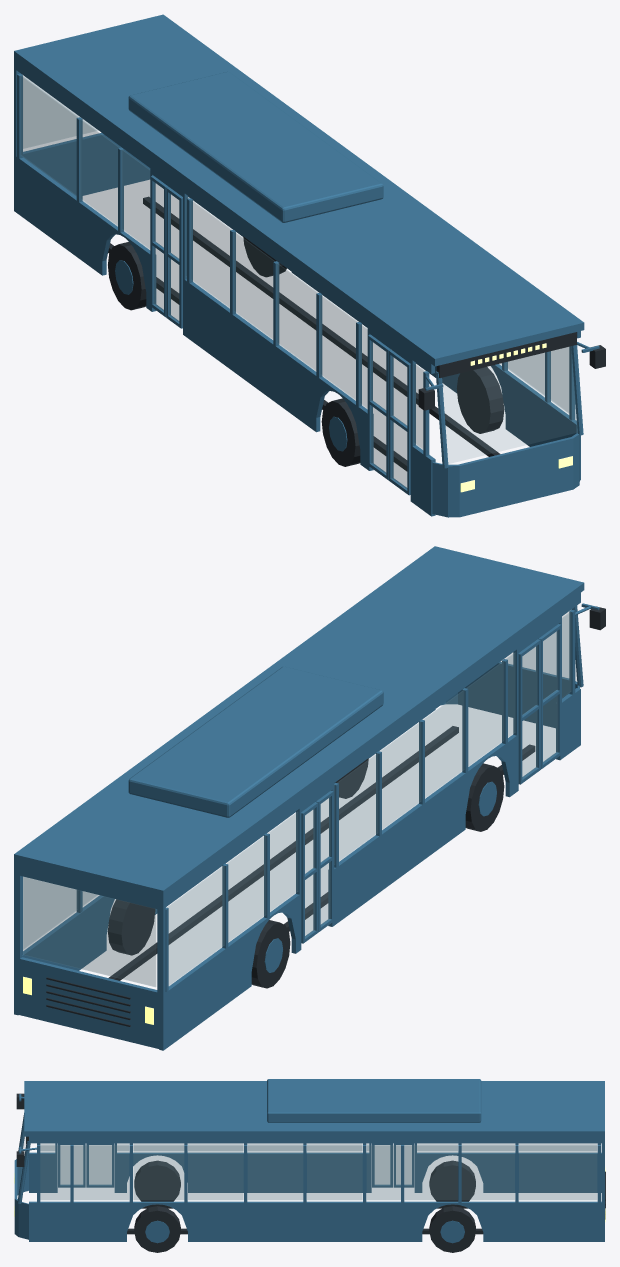
The model's file is city-bus-12m-exterior.lod0.glb.
3 views of the same model, one above another, from view 1: azimuth 30°, elevation 25°; view 2: azimuth 150°, elevation 25°; view 3: azimuth 270°, elevation 25° (orthographic). The views are drawn at different scales.
Visible parts, largest first — view 1: body-shell, glass, roof-equipment, body-trim, door-right-front-b-panel, door-right-front-a-panel, wheel-front-left-tyre, door-right-rear-a-panel, door-right-rear-b-panel, wheel-front-right-tyre, wheel-rear-right-tyre, wheel-rear-left-tyre; view 2: body-shell, glass, roof-equipment, body-trim, door-right-front-a-panel, door-right-front-b-panel, door-right-rear-a-panel, door-right-rear-b-panel, wheel-rear-left-tyre, wheel-front-right-tyre, wheel-rear-right-tyre, wheel-front-left-tyre; view 3: body-shell, glass, roof-equipment, wheel-front-right-tyre, wheel-rear-right-tyre, wheel-front-left-tyre, wheel-rear-left-tyre, door-right-front-a-panel, door-right-front-b-panel, door-right-rear-b-panel, door-right-rear-a-panel, body-trim (+2 smaller).
Part boxes in pixels (x1,y1,x2,y2): body-shell: (14, 14, 599, 517); glass: (20, 75, 577, 463); roof-equipment: (128, 71, 383, 222); body-trim: (108, 196, 605, 471); door-right-front-b-panel: (388, 350, 410, 495); door-right-front-a-panel: (368, 334, 390, 480); wheel-front-left-tyre: (456, 367, 504, 433); door-right-rear-a-panel: (150, 175, 168, 317); door-right-rear-b-panel: (166, 187, 182, 328); wheel-front-right-tyre: (321, 398, 360, 466); wheel-rear-right-tyre: (108, 242, 146, 310); wheel-rear-left-tyre: (243, 236, 286, 277); body-shell: (14, 546, 599, 1050); glass: (23, 612, 576, 986); roof-equipment: (128, 666, 383, 817); body-trim: (46, 606, 605, 1026); door-right-front-a-panel: (518, 639, 540, 784); door-right-front-b-panel: (538, 624, 561, 769); door-right-rear-a-panel: (301, 802, 318, 943); door-right-rear-b-panel: (316, 790, 333, 932); wheel-rear-left-tyre: (108, 899, 155, 955); wheel-front-right-tyre: (465, 763, 504, 831); wheel-rear-right-tyre: (251, 920, 290, 988); wheel-front-left-tyre: (335, 758, 368, 798); body-shell: (14, 1081, 604, 1241); glass: (20, 1133, 597, 1199); roof-equipment: (267, 1079, 481, 1122); wheel-front-right-tyre: (134, 1160, 180, 1201); wheel-rear-right-tyre: (429, 1160, 475, 1201); wheel-front-left-tyre: (134, 1206, 180, 1252); wheel-rear-left-tyre: (429, 1206, 475, 1252); door-right-front-a-panel: (86, 1143, 114, 1187); door-right-front-b-panel: (58, 1143, 85, 1187); door-right-rear-b-panel: (372, 1143, 392, 1187); door-right-rear-a-panel: (393, 1143, 414, 1187); body-trim: (16, 1093, 605, 1234).
Size of the model in its own units: 3.04 by 3.07 by 12.43.
